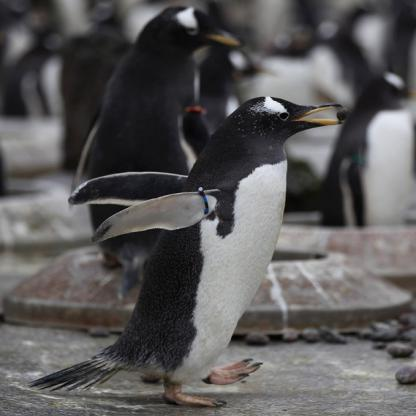Penguin: (62, 90, 359, 414), (50, 3, 252, 285)
